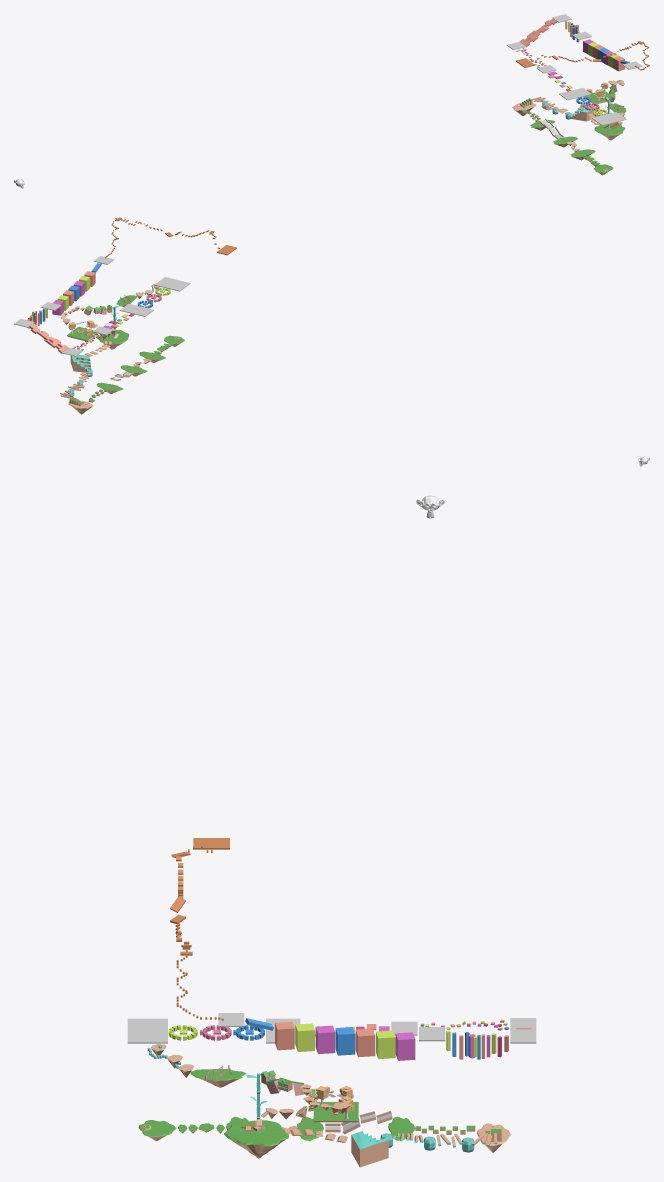
3 views of the same model, one above another, from view 1: azimuth 30°, elevation 25°; view 2: azimuth 150°, elevation 25°; view 3: azimuth 270°, elevation 25° (orthographic). The views are drawn at different scales.
Visible parts, largest first — view 1: Cube061, Vert028, blockDirt081; view 2: no part large enough to name; view 3: Vert028, blockDirt081.
Boxes of the visible parts, <box> form: Cube061: <box>520,18,556,47</box>; Vert028: <box>594,122,625,135</box>; blockDirt081: <box>592,112,626,125</box>; Vert028: <box>224,1120,288,1146</box>; blockDirt081: <box>127,1018,167,1043</box>.
Bounding box in the file's own units: 3572 × 750 × 1088.
Materials: 51 (1 with a texture image).
